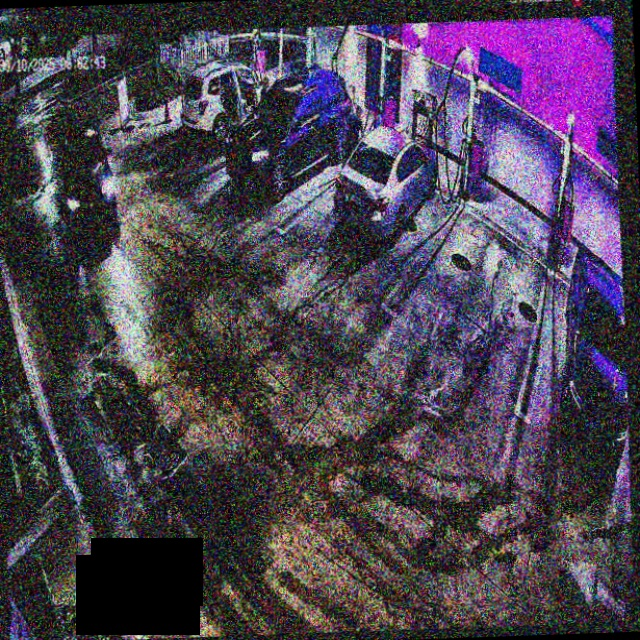Car: (221, 63, 356, 202), (331, 123, 441, 242), (179, 60, 278, 144)
